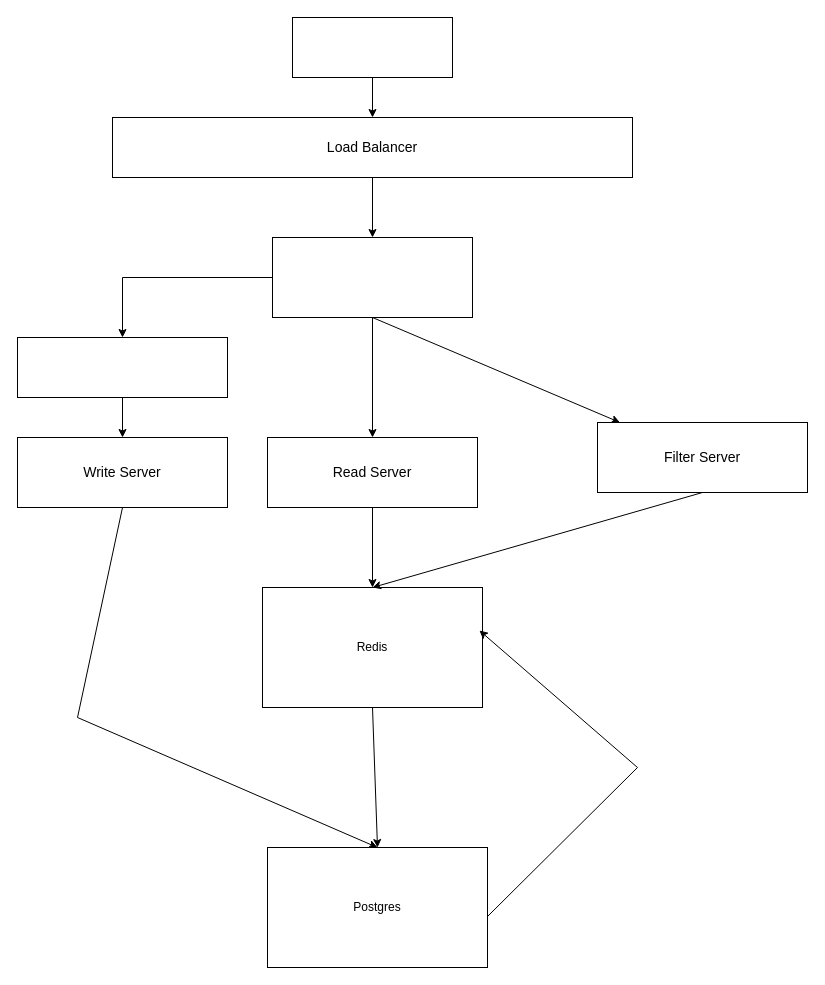
Some shapes in this 825 by 985 pixel diagram are drawn without their labels. The centre of each missing label's shape, as x and y in pixels:
Client: point (372, 47)
Message Queue: point (122, 367)
Rest to Grpc -> Proxy: point (372, 277)
